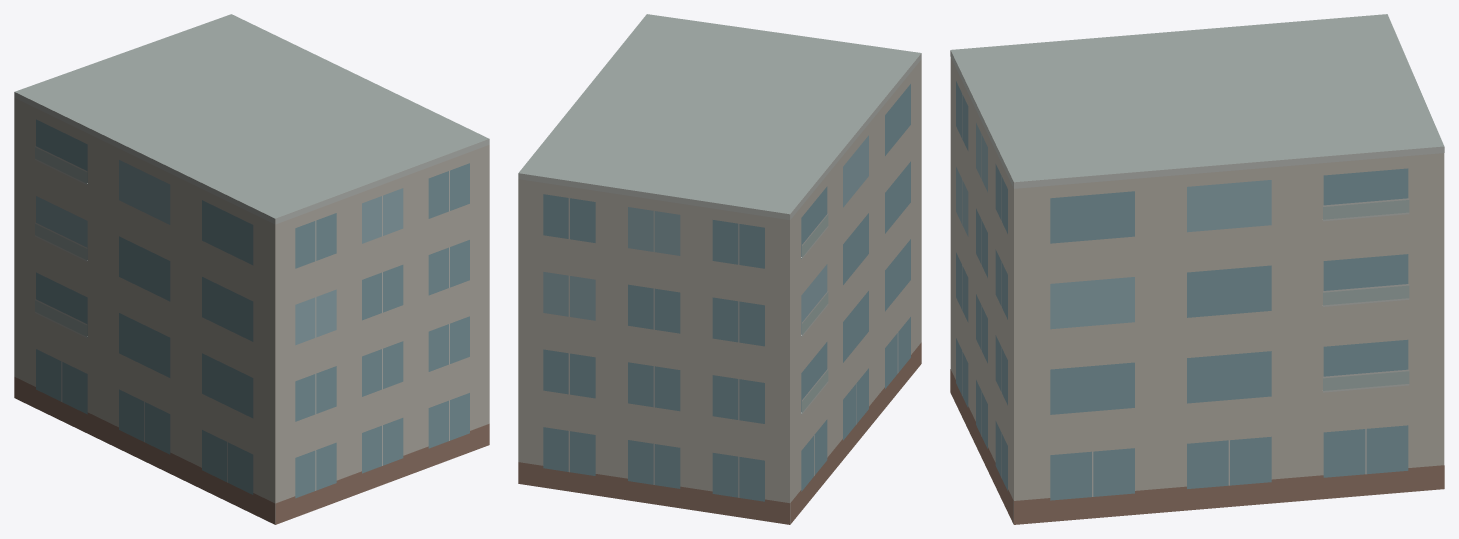
The model's file is survey-upis-32631910.glb.
3 views of the same model, side by side, from view 1: azimuth 30°, elevation 25°; view 2: azimuth 150°, elevation 25°; view 3: azimuth 270°, elevation 25° (orthographic). The views are drawn at different scales.
Visible parts, largest first — view 1: survey-upis-32631910.tmp; view 2: survey-upis-32631910.tmp; view 3: survey-upis-32631910.tmp.
Boxes of the visible parts, x1,y1,x2,y2 form: survey-upis-32631910.tmp: (14, 14, 489, 524); survey-upis-32631910.tmp: (518, 14, 921, 524); survey-upis-32631910.tmp: (950, 14, 1444, 524).
Bounding box in the file's own units: 13.39 × 12.7 × 16.61.
